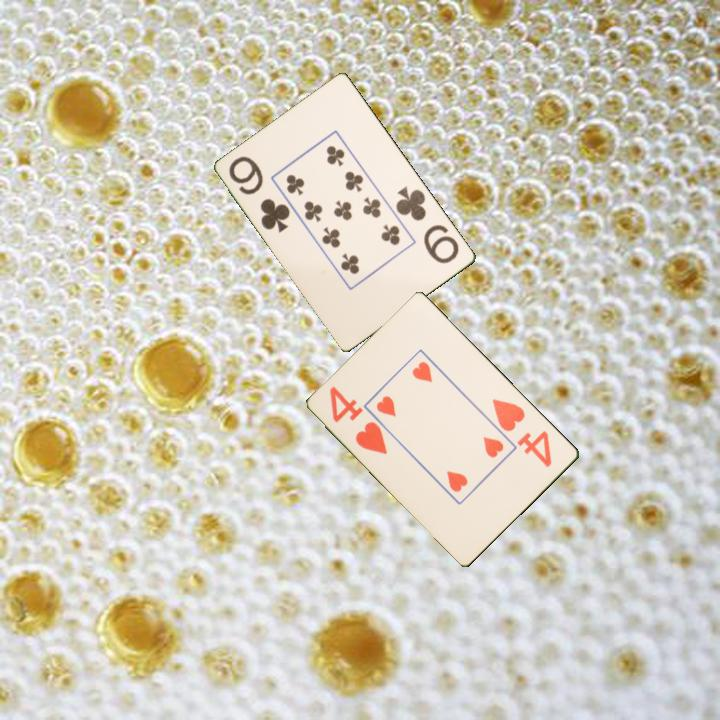4h: (489, 395, 555, 470), (326, 382, 391, 458)
9c: (392, 183, 463, 267), (225, 152, 294, 236)
